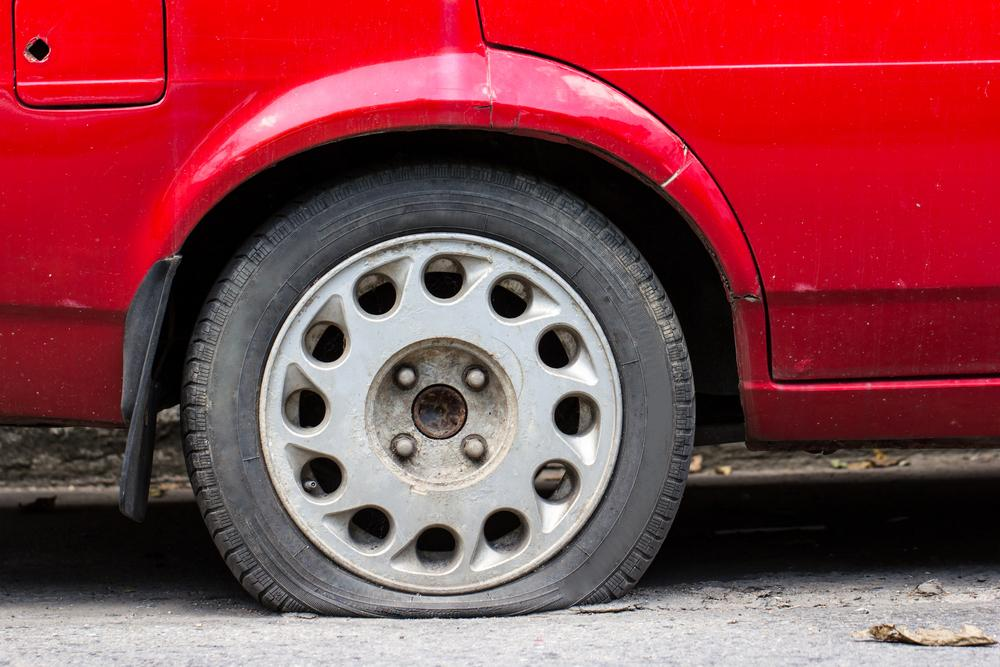tire flat: (188, 161, 696, 618)
